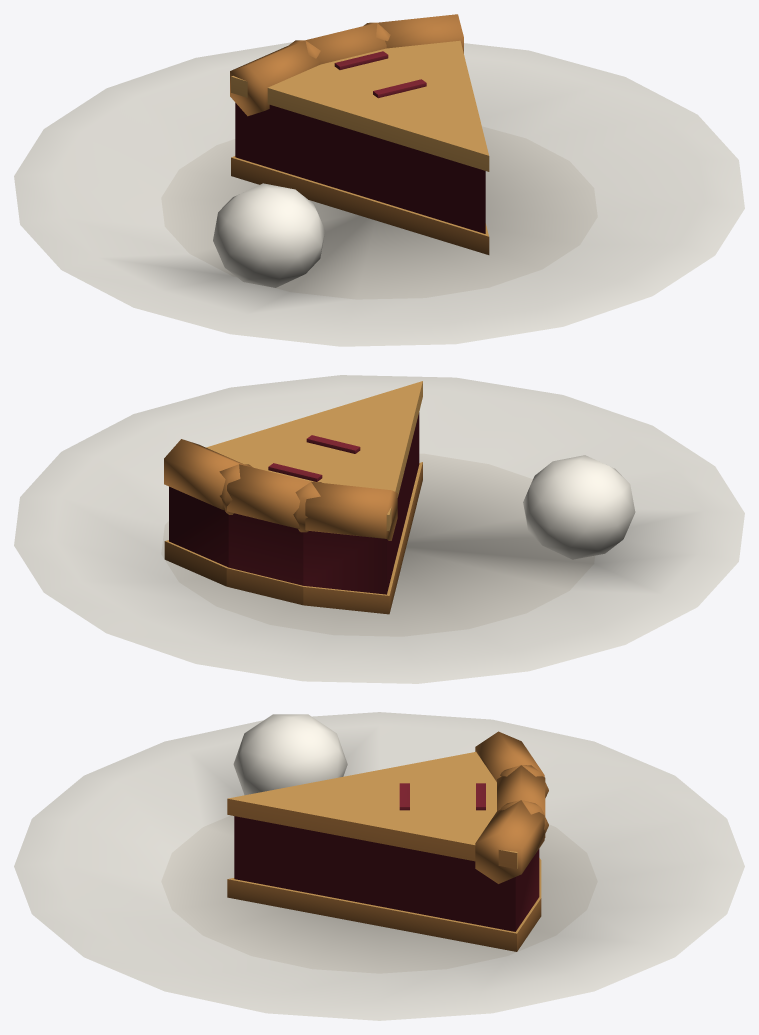
The model's file is pieSlice.glb.
3 renders of one model, top to bottom at view 1: azimuth 30°, elevation 25°; view 2: azimuth 150°, elevation 25°; view 3: azimuth 270°, elevation 25°, orthographic.
Parts seen in each view (by area): view 1: pieSlice; view 2: pieSlice; view 3: pieSlice.
Part boxes in pixels (box(x1,y1,x2,y2)): pieSlice: box(14, 14, 744, 346); pieSlice: box(14, 375, 744, 683); pieSlice: box(14, 712, 744, 1020).
Bounding box in the file's own units: 0.288 × 0.059 × 0.288.
